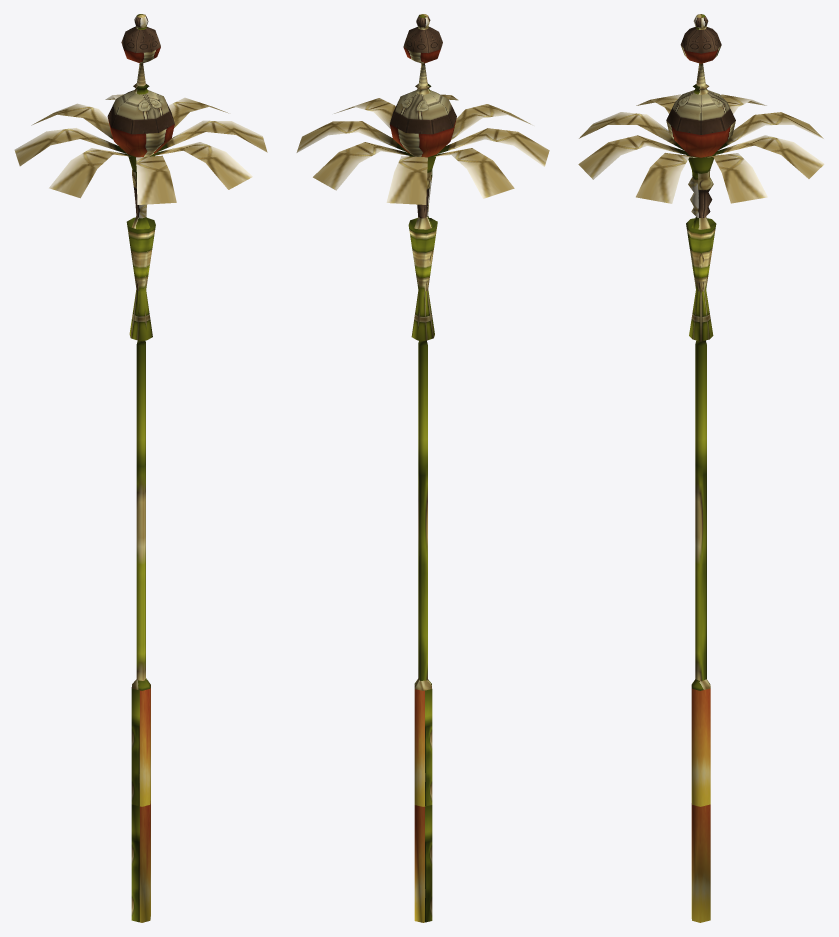
The model's file is harvestcleric01.obj.
3 views of the same model, side by side, from view 1: azimuth 30°, elevation 25°; view 2: azimuth 150°, elevation 25°; view 3: azimuth 270°, elevation 25° (orthographic).
Parts seen in each view (by area): view 1: MDL_w21st01_bod00.001; view 2: MDL_w21st01_bod00.001; view 3: MDL_w21st01_bod00.001.
Part boxes in pixels (x1,y1,x2,y2): MDL_w21st01_bod00.001: (14, 14, 267, 922); MDL_w21st01_bod00.001: (296, 14, 549, 922); MDL_w21st01_bod00.001: (578, 14, 824, 922).
Bounding box in the file's own units: 0.4618 × 1.86 × 0.4606.
